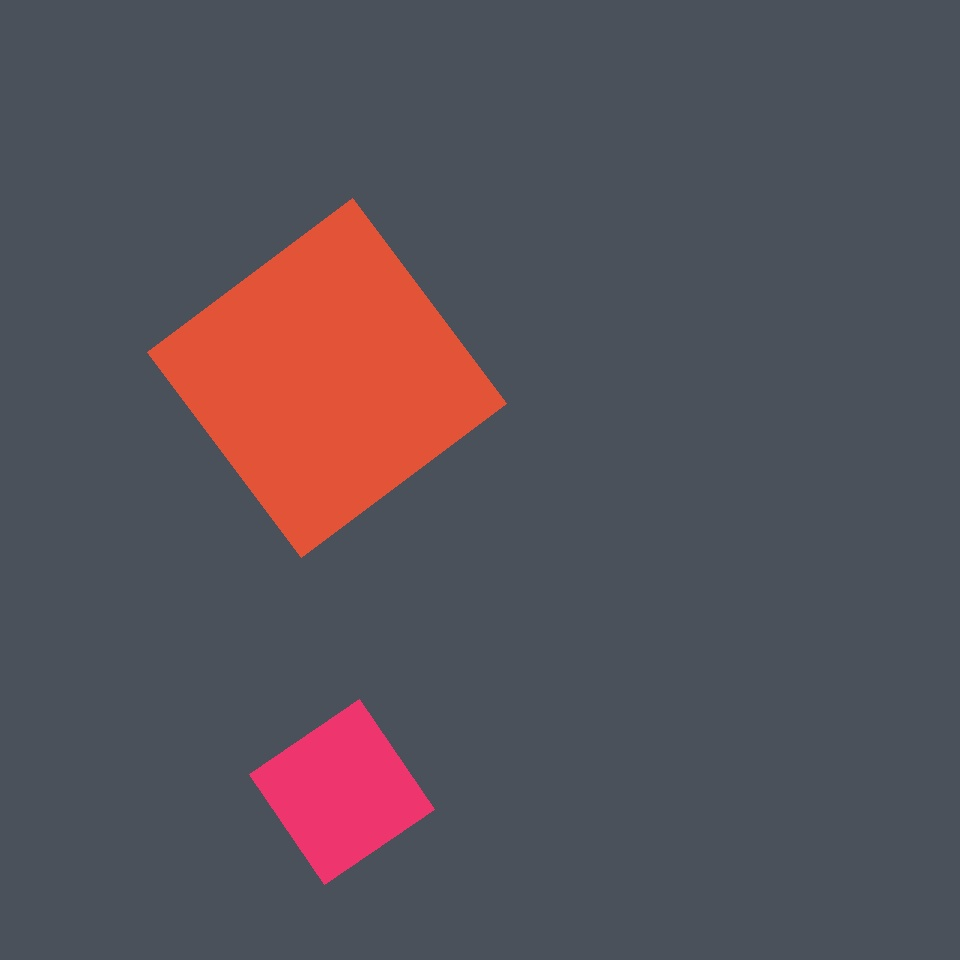circle: (567, 759, 669, 873)
square: (148, 198, 506, 558), (281, 228, 610, 556), (250, 700, 434, 884)
